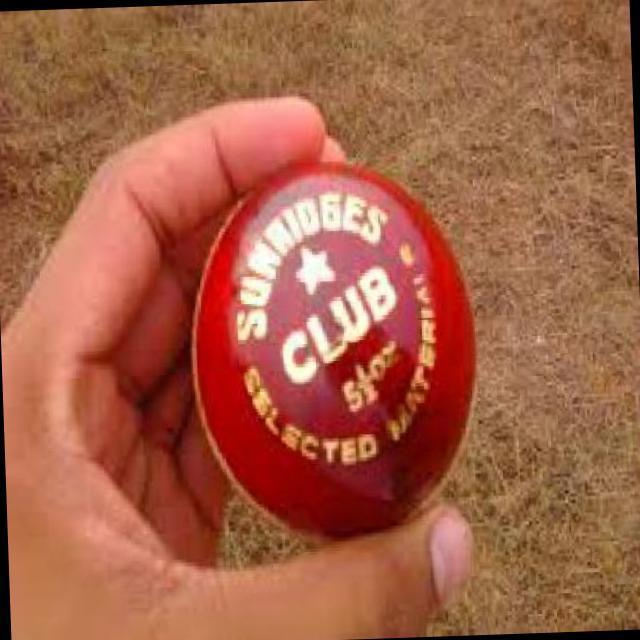-: (180, 163, 497, 538)
